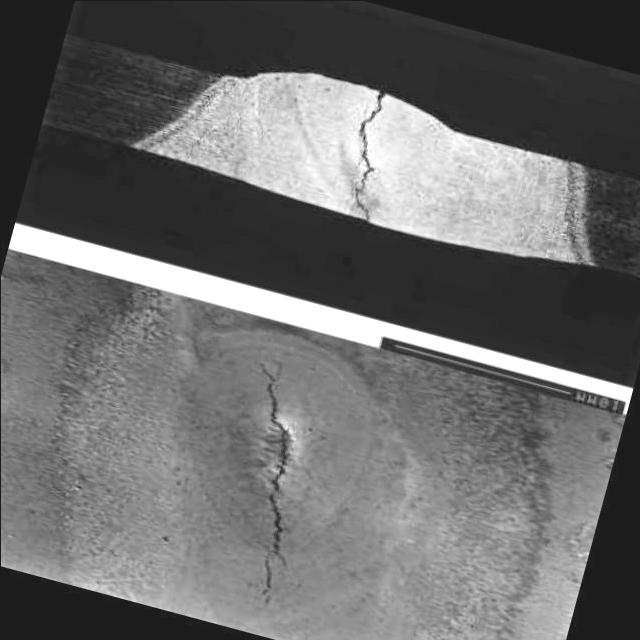defect: (251, 354, 297, 602), (349, 88, 392, 224)
